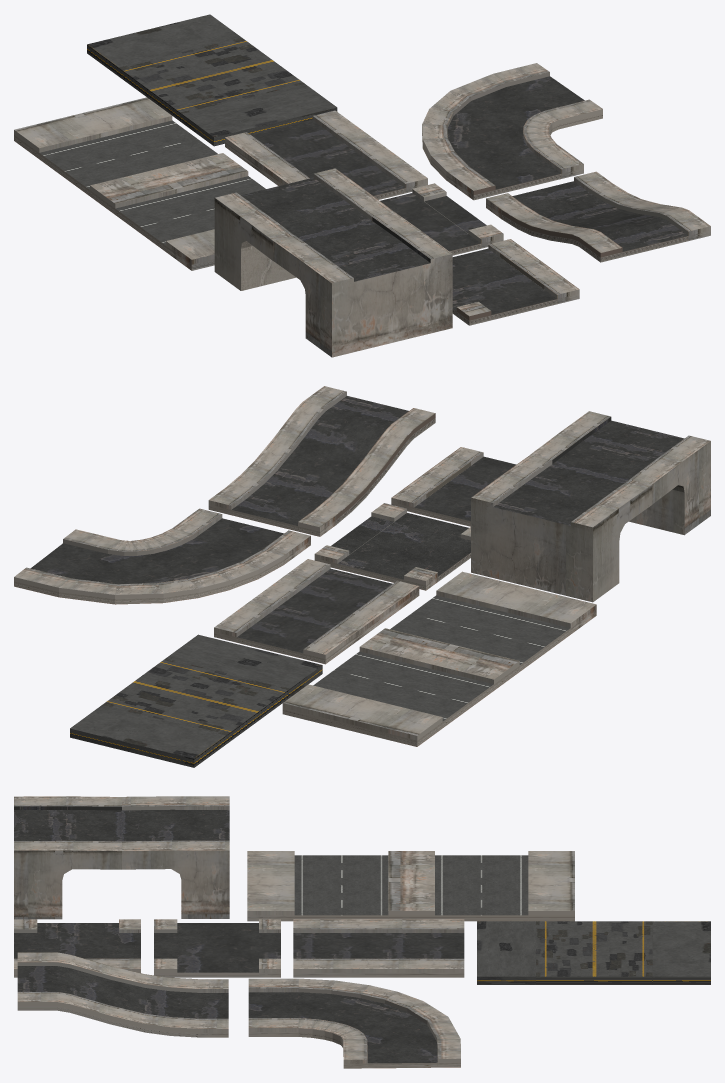
File: old_street_pack.glb
3 views of the same model, one above another, from view 1: azimuth 30°, elevation 25°; view 2: azimuth 150°, elevation 25°; view 3: azimuth 270°, elevation 25° (orthographic). The views are drawn at different scales.
Parts seen in each view (by area): view 1: Cubo.002, Cubo.001, Cubo.003, Cube.002, Cubo, Cube.003, Cube, Cube.004, Cube.001; view 2: Cubo.002, Cubo, Cubo.003, Cube.003, Cube.002, Cube, Cubo.001, Cube.001, Cube.004; view 3: Cubo.002, Cubo.003, Cube.002, Cube.003, Cubo.001, Cubo, Cube, Cube.001, Cube.004.
Part boxes in pixels (bbox=[...]): Cubo.002: bbox=[14, 97, 265, 270]; Cubo.001: bbox=[273, 211, 452, 357]; Cubo.003: bbox=[87, 14, 337, 146]; Cube.002: bbox=[422, 63, 602, 200]; Cubo: bbox=[214, 168, 393, 290]; Cube.003: bbox=[486, 171, 710, 262]; Cube: bbox=[225, 110, 427, 199]; Cube.004: bbox=[452, 239, 579, 325]; Cube.001: bbox=[380, 183, 503, 255]; Cubo.002: bbox=[282, 571, 596, 746]; Cubo: bbox=[471, 455, 652, 602]; Cubo.003: bbox=[70, 634, 322, 767]; Cube.003: bbox=[208, 386, 435, 536]; Cube.002: bbox=[14, 508, 310, 604]; Cube: bbox=[214, 559, 419, 664]; Cubo.001: bbox=[530, 411, 710, 535]; Cube.001: bbox=[314, 503, 470, 590]; Cube.004: bbox=[391, 447, 516, 526]; Cubo.002: bbox=[247, 851, 574, 921]; Cubo.003: bbox=[477, 921, 710, 984]; Cube.002: bbox=[248, 978, 460, 1068]; Cube.003: bbox=[17, 952, 228, 1037]; Cubo.001: bbox=[14, 796, 121, 919]; Cubo: bbox=[122, 796, 229, 918]; Cube: bbox=[293, 919, 464, 977]; Cube.001: bbox=[154, 919, 280, 977]; Cube.004: bbox=[14, 919, 140, 977].
Bounding box in the file's own units: 42.24 × 6.93 × 59.72.
13 materials, 13 textured.
